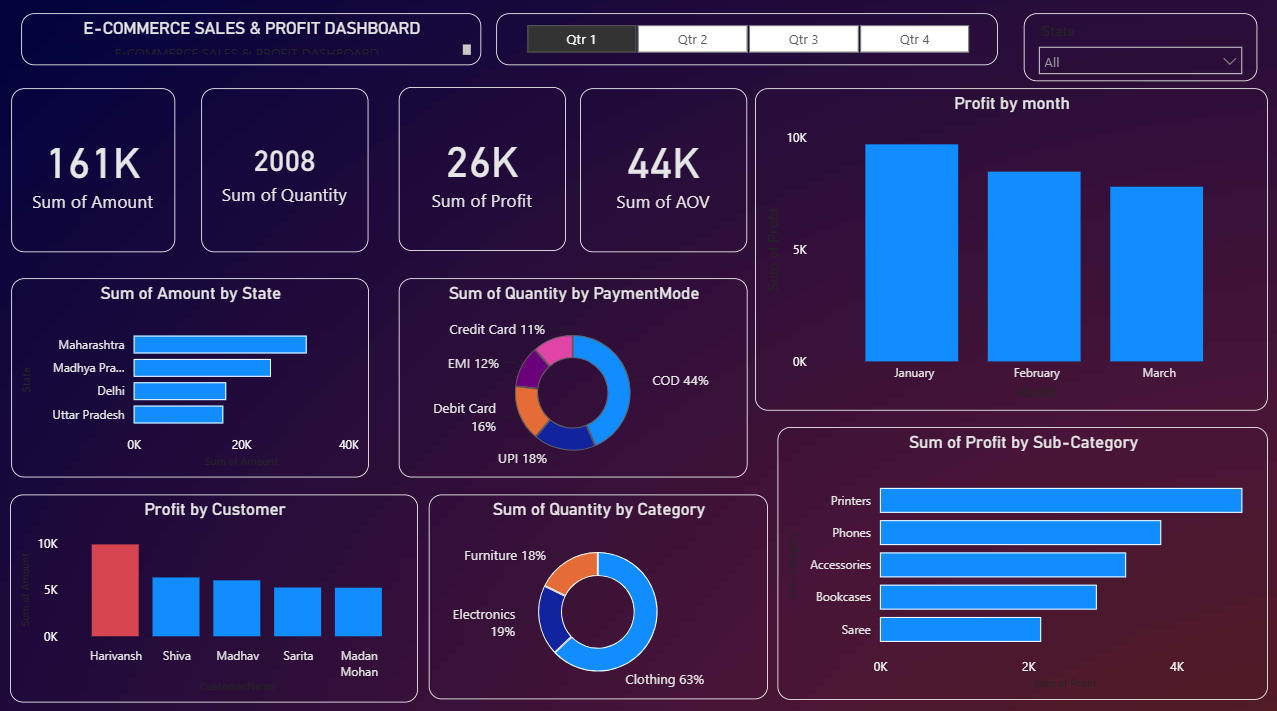

This screenshot's page, from the dashboard's own definition file:
{"tool":"powerbi","page":{"name":"Page 1","canvas":[1280,720],"ordinal":0},"visuals":[{"type":"textbox","box":[10.7,16,471.6,51.6],"z":0},{"type":"columnChart","title":"Profit by month","fields":{"Category":["Orders csv.Order Date.Variation.Date Hierarchy.Month"],"Y":["Sum(Details csv.Profit)"]},"box":[754.6,90.8,512.6,322.1],"z":1000},{"type":"barChart","fields":{"Category":["Details csv.Sub-Category"],"Y":["Sum(Details csv.Profit)"]},"box":[755,430,512.6,274.1],"z":2000},{"type":"donutChart","fields":{"Category":["Details csv.Category"],"Y":["Sum(Details csv.Quantity)"]},"box":[398.7,496.6,348.8,206.5],"z":3000},{"type":"donutChart","fields":{"Y":["Sum(Details csv.Quantity)"],"Category":["Details csv.PaymentMode"]},"box":[398.7,281.2,348.8,199.3],"z":4000},{"type":"card","fields":{"Values":["Sum(Details csv.Profit)"]},"box":[10.7,90.8,163.7,163.7],"z":5000},{"type":"card","fields":{"Values":["Sum(Details csv.Quantity)"]},"box":[201.1,90.8,167.3,163.7],"z":6000},{"type":"card","fields":{"Values":["Sum(Details csv.Profit)"]},"box":[398.7,90.8,167.3,163.7],"z":7000},{"type":"card","fields":{"Values":["Sum(Details csv.AOV)"]},"box":[580.2,90.8,167.3,163.7],"z":8000},{"type":"barChart","fields":{"Category":["Orders csv.State"],"Y":["Sum(Details csv.Amount)"]},"box":[10.7,281.2,357.7,199.3],"z":9000},{"type":"columnChart","title":"Profit by month","fields":{"Category":["Orders csv.CustomerName"],"Y":["Sum(Details csv.Amount)"]},"box":[10.7,496.6,357.7,206.5],"z":10000},{"type":"slicer","fields":{"Values":["Orders csv.Order Date.Variation.Date Hierarchy.Quarter"]},"box":[496,16,501.9,51.6],"z":11000},{"type":"slicer","fields":{"Values":["Orders csv.State"]},"box":[1023.3,16.7,233.3,68.3],"z":12000}]}

Visuals, with their boxes in screenshot pixels (x1, y1, x2, y2), scaled from the page's 1280x720 canvas onto the 1277x711 screenshot:
textbox: pyautogui.locateOnScreen(11, 16, 481, 67)
"Profit by month" columnChart: pyautogui.locateOnScreen(753, 90, 1264, 408)
barChart - Details csv.Sub-Category x Sum(Details csv.Profit): pyautogui.locateOnScreen(753, 425, 1265, 695)
donutChart - Details csv.Category x Sum(Details csv.Quantity): pyautogui.locateOnScreen(398, 490, 746, 694)
donutChart - Sum(Details csv.Quantity) x Details csv.PaymentMode: pyautogui.locateOnScreen(398, 278, 746, 474)
card - Sum(Details csv.Profit): pyautogui.locateOnScreen(11, 90, 174, 251)
card - Sum(Details csv.Quantity): pyautogui.locateOnScreen(201, 90, 368, 251)
card - Sum(Details csv.Profit): pyautogui.locateOnScreen(398, 90, 565, 251)
card - Sum(Details csv.AOV): pyautogui.locateOnScreen(579, 90, 746, 251)
barChart - Orders csv.State x Sum(Details csv.Amount): pyautogui.locateOnScreen(11, 278, 368, 474)
"Profit by month" columnChart: pyautogui.locateOnScreen(11, 490, 368, 694)
slicer - Orders csv.Order Date.Variation.Date Hierarchy.Quarter: pyautogui.locateOnScreen(495, 16, 996, 67)
slicer - Orders csv.State: pyautogui.locateOnScreen(1021, 16, 1254, 84)
